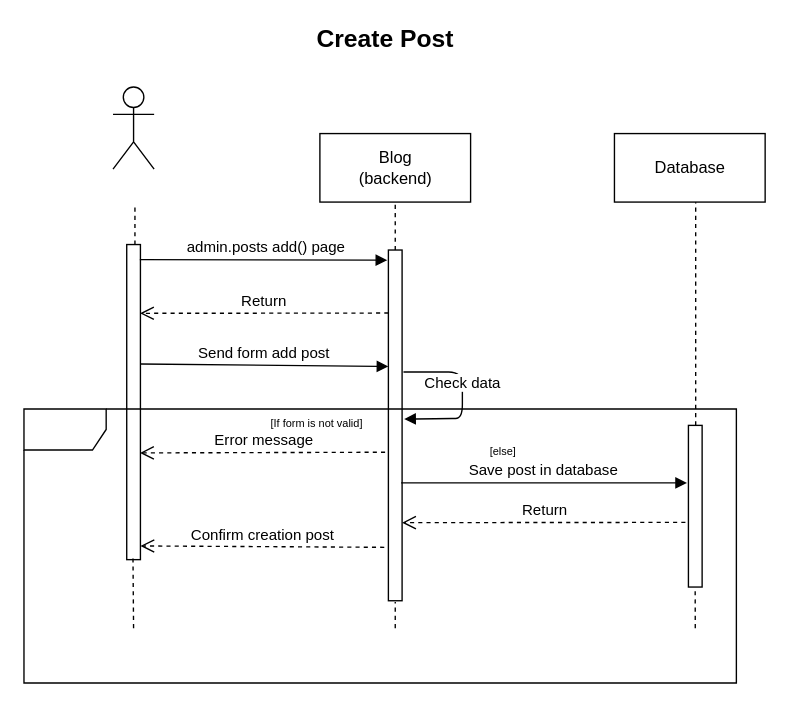
This 789x707 diagram has some shape labels left out. Each missing label, with the centre of its shape:
Admin: pixel 133 127
alt: pixel 379 545
